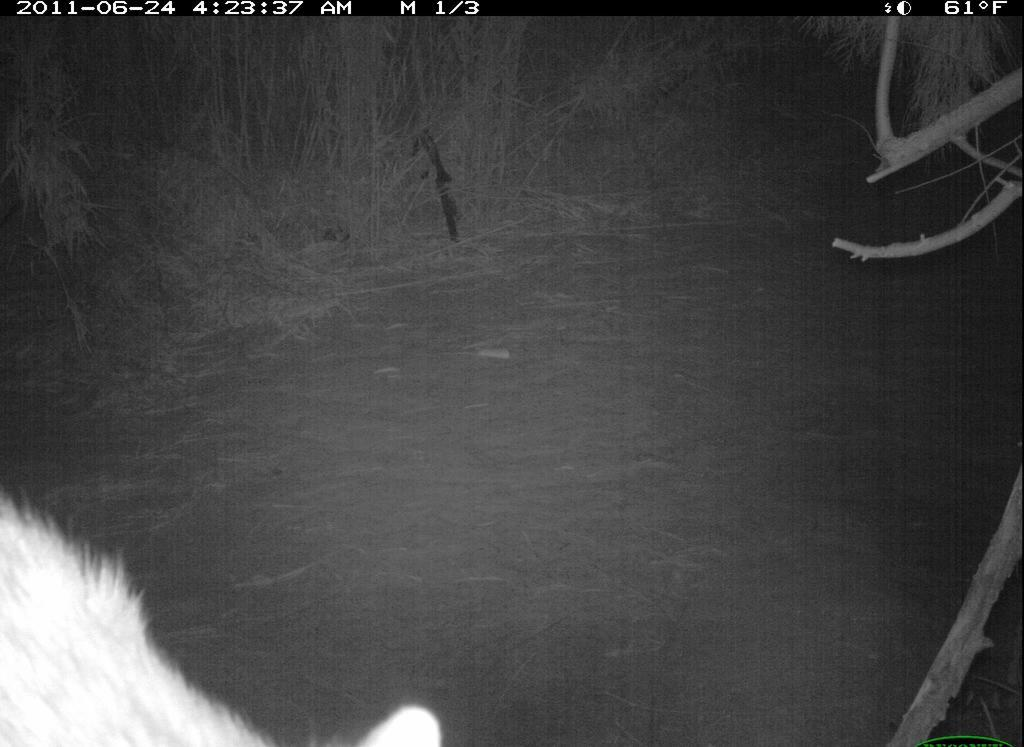raccoon: (3, 465, 469, 747)
